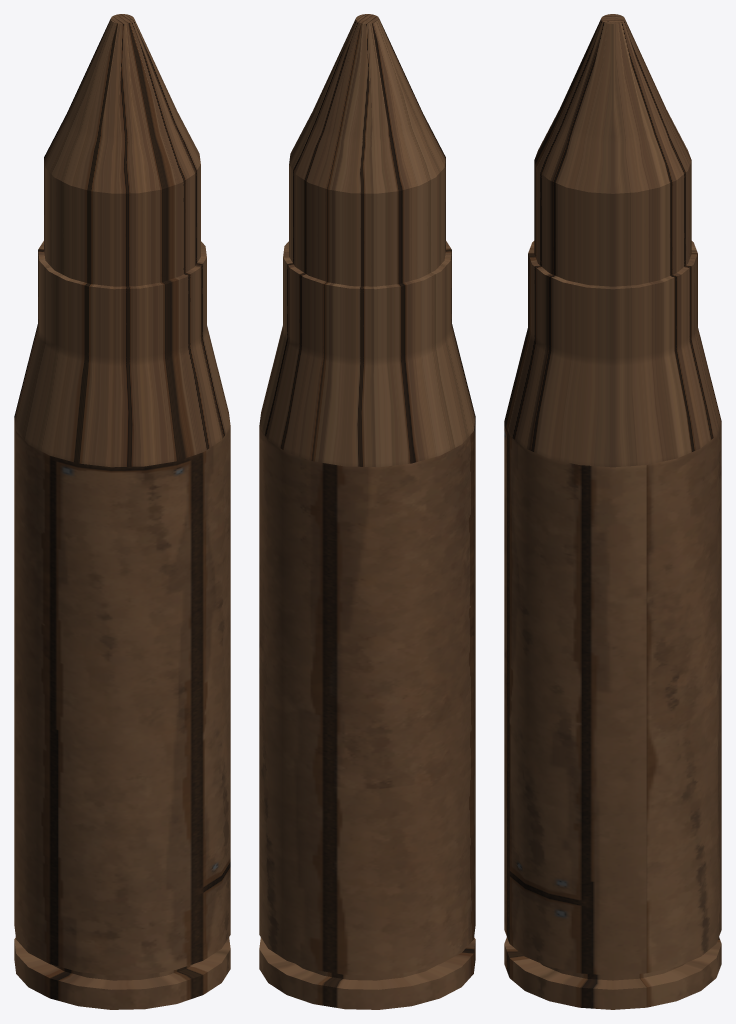
File: bala.obj
3 views of the same model, side by side, from view 1: azimuth 30°, elevation 25°; view 2: azimuth 150°, elevation 25°; view 3: azimuth 270°, elevation 25° (orthographic).
Visible parts, largest first — view 1: pCylinder1; view 2: pCylinder1; view 3: pCylinder1.
Boxes of the visible parts, <box> form: pCylinder1: <box>14,14,230,1009</box>; pCylinder1: <box>259,14,475,1009</box>; pCylinder1: <box>504,14,721,1009</box>.
Bounding box in the file's own units: 2 × 9.59 × 2.
